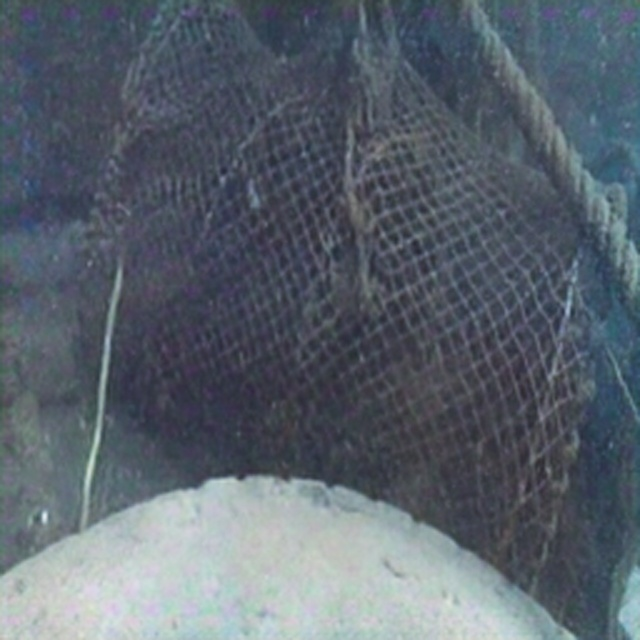mine: (76, 1, 627, 601)
